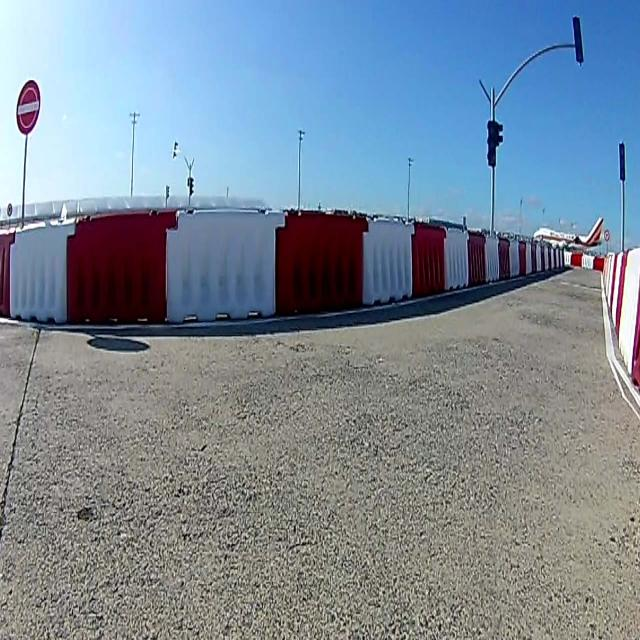girisyok: (16, 80, 40, 133)
